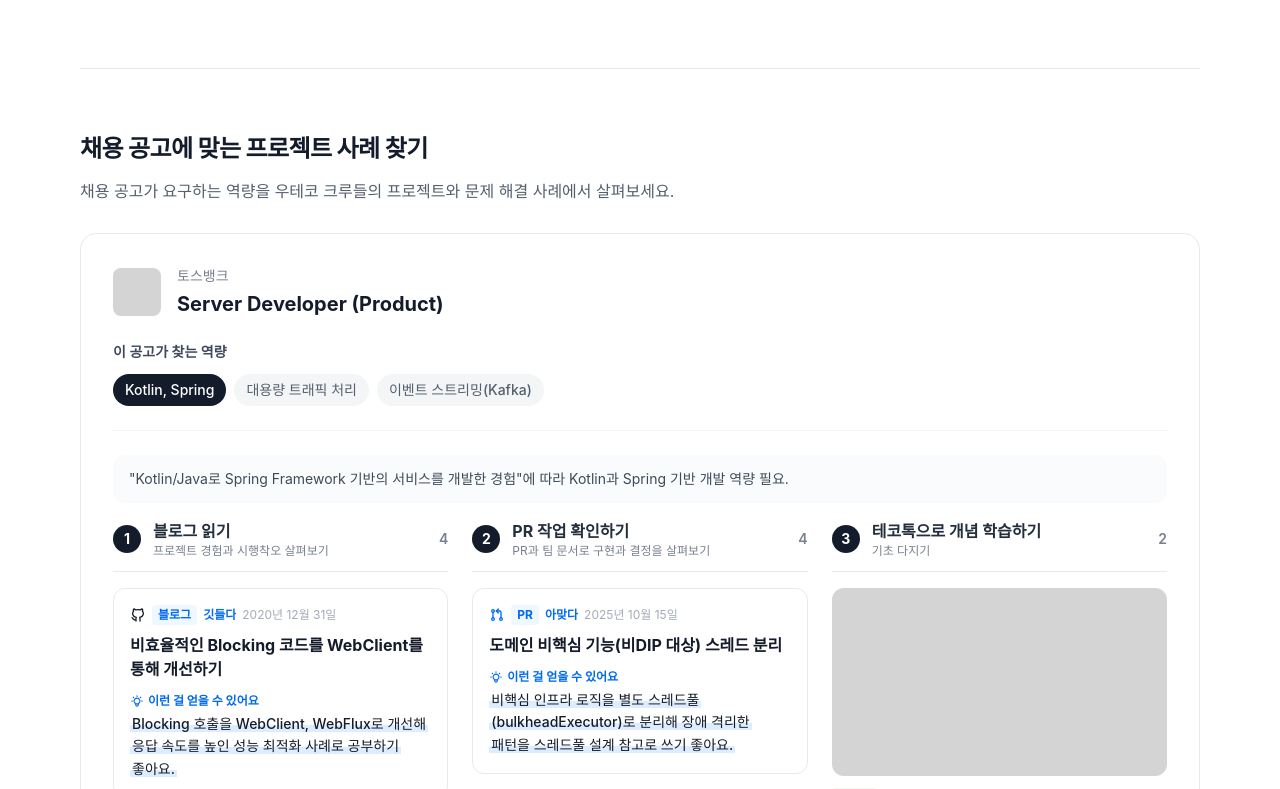
공고 역량을 고르면 그 역량의 이유와 자료로 바뀐다
This screenshot has width=1280, height=789.
(page scrolled)
Click the button "이벤트 스트리밍(Kafka)".
click(460, 390)  # box [377,374,544,406]
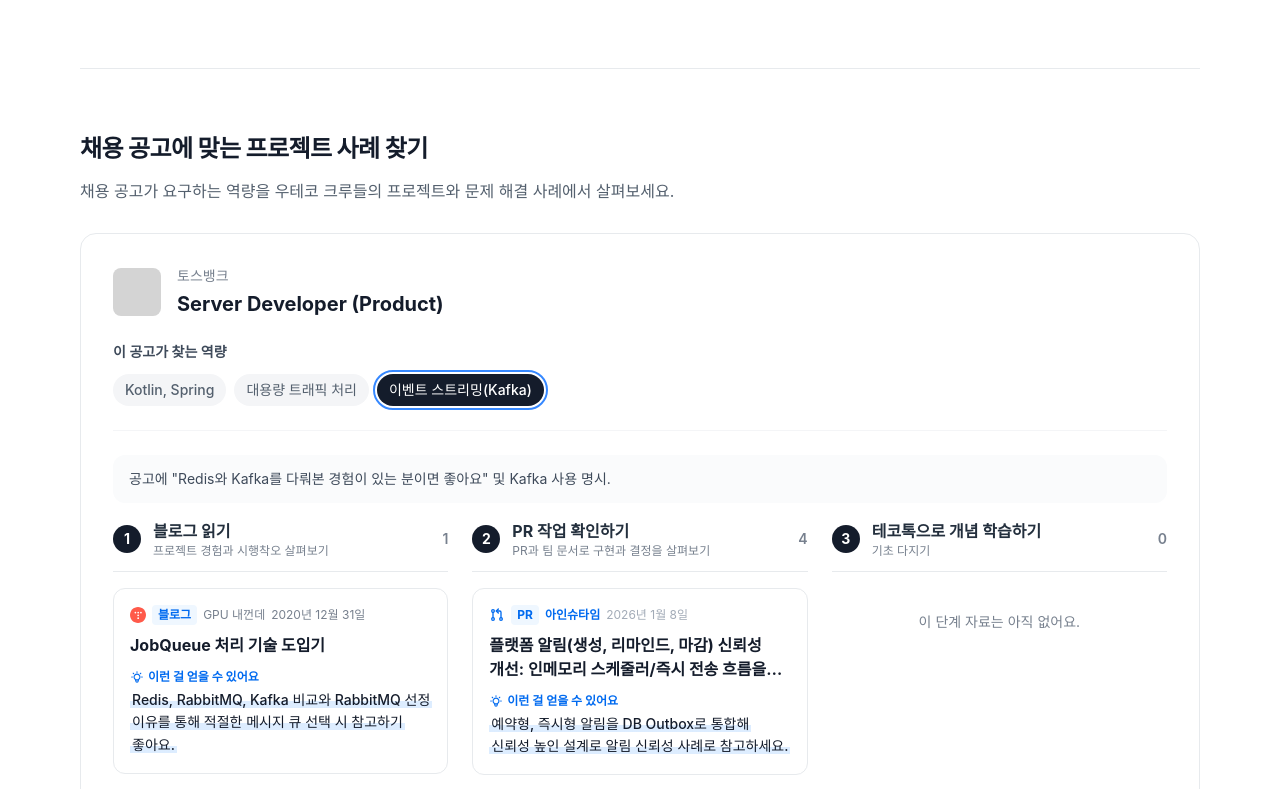
Expected: the button "Kotlin, Spring" is shown, [113,374,226,406]
Result: the text "공고에 \"Redis와 Kafka를 다뤄본 경험이 있는 분이면 좋아요\" 및 Kafka 사용 명시." is shown at [113,454,1167,502]
